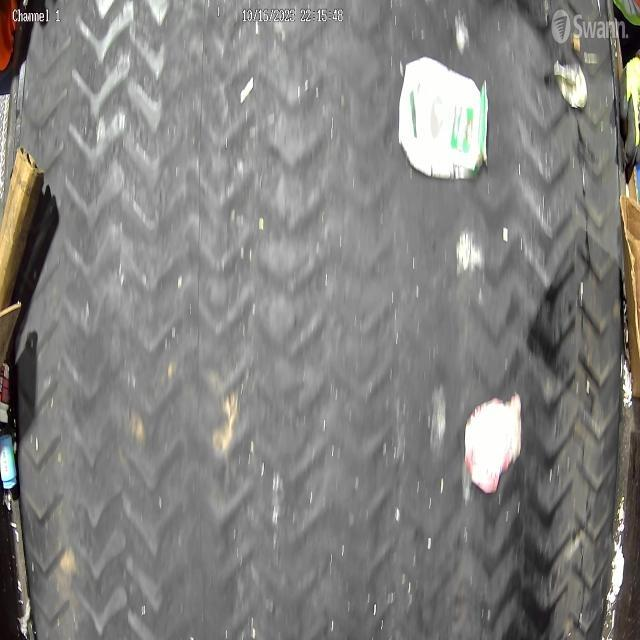non_white_jug: (398, 56, 489, 180)
